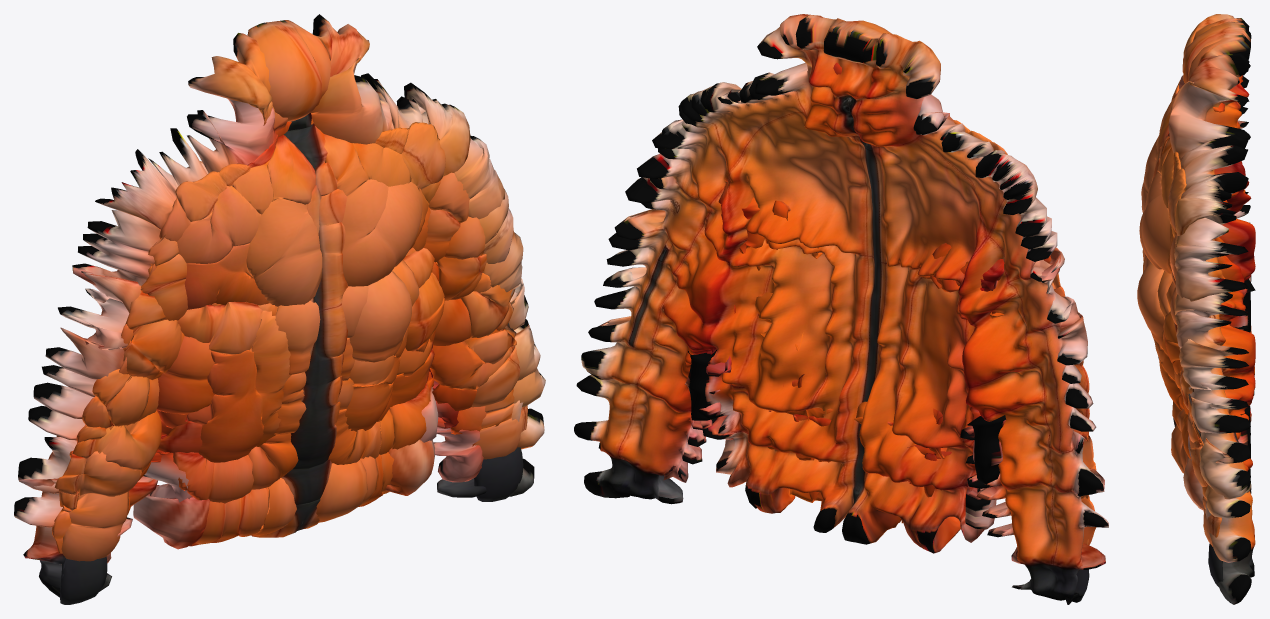
The model's file is jacket_orange.glb.
3 views of the same model, side by side, from view 1: azimuth 30°, elevation 25°; view 2: azimuth 150°, elevation 25°; view 3: azimuth 270°, elevation 25° (orthographic). The views are drawn at different scales.
Parts seen in each view (by area): view 1: Jacket_3D; view 2: Jacket_3D; view 3: Jacket_3D.
Boxes of the visible parts, box(x1,y1,x2,y2) form: Jacket_3D: box(14, 14, 545, 604); Jacket_3D: box(574, 14, 1108, 604); Jacket_3D: box(1137, 14, 1255, 604).
Size of the model in its own units: 2.39 by 2.28 by 0.5228.
Materials: 1 (1 with a texture image).
